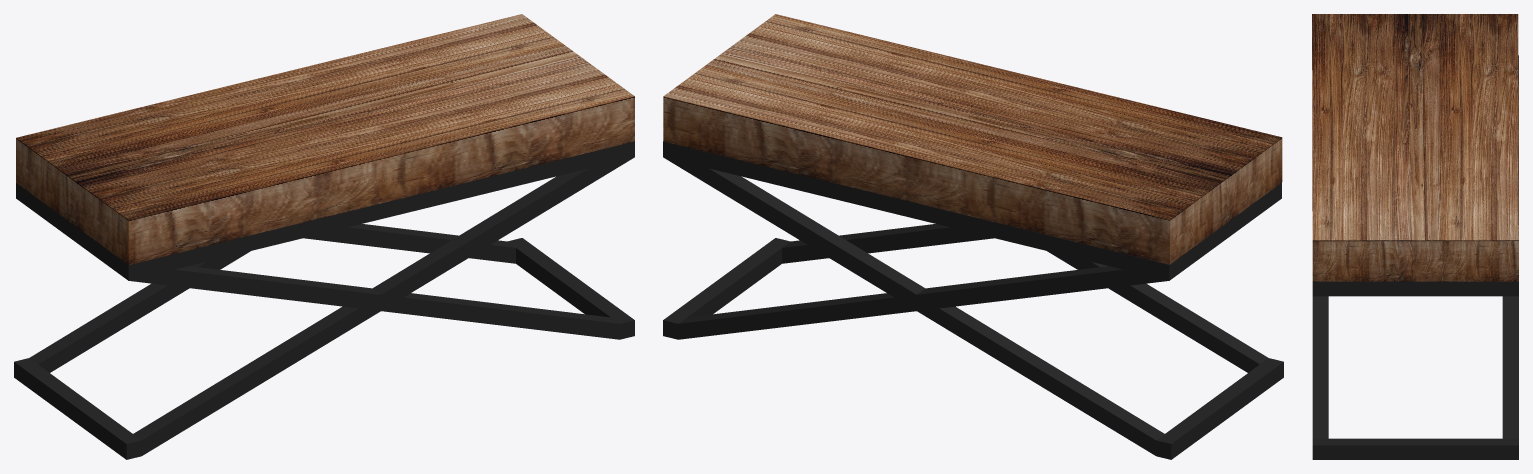
File: table_5.glb
The picture shows the model from 3 angles, left to right: view 1: azimuth 30°, elevation 25°; view 2: azimuth 150°, elevation 25°; view 3: azimuth 270°, elevation 25°; orthographic projection. The views are drawn at different scales.
Parts seen in each view (by area): view 1: plateau.001, Cube.010, Cube.009, Cube.011, Cube.002, Cube.004, Cube.008, Cube.003, Cube.007; view 2: plateau.001, Cube.002, Cube.003, Cube.001, Cube.010, Cube.004, Cube.008, Cube.009, Cube.007; view 3: plateau.001, Cube.008, Cube.006, Cube.003, Cube.009, Cube.001, Cube.011.
Part boxes in pixels (bbox=[...]): plateau.001: bbox=[16, 14, 634, 264]; Cube.010: bbox=[133, 157, 634, 455]; Cube.009: bbox=[129, 266, 619, 339]; Cube.011: bbox=[119, 141, 634, 280]; Cube.002: bbox=[29, 251, 250, 372]; Cube.004: bbox=[14, 358, 141, 459]; Cube.008: bbox=[507, 238, 634, 339]; Cube.003: bbox=[304, 224, 515, 263]; Cube.007: bbox=[24, 189, 119, 273]; plateau.001: bbox=[663, 14, 1282, 264]; Cube.002: bbox=[664, 157, 1164, 455]; Cube.003: bbox=[678, 266, 1168, 339]; Cube.001: bbox=[663, 141, 1178, 280]; Cube.010: bbox=[1047, 251, 1268, 372]; Cube.004: bbox=[1156, 358, 1283, 459]; Cube.008: bbox=[663, 238, 790, 339]; Cube.009: bbox=[782, 224, 993, 263]; Cube.007: bbox=[1178, 189, 1273, 273]; plateau.001: bbox=[1312, 14, 1518, 281]; Cube.008: bbox=[1312, 438, 1518, 459]; Cube.006: bbox=[1328, 281, 1502, 296]; Cube.003: bbox=[1502, 296, 1518, 438]; Cube.009: bbox=[1312, 296, 1328, 438]; Cube.001: bbox=[1502, 55, 1518, 296]; Cube.011: bbox=[1312, 281, 1328, 296].
Bounding box in the file's own units: 1 × 0.4523 × 0.386.
2 materials, 1 textured.
